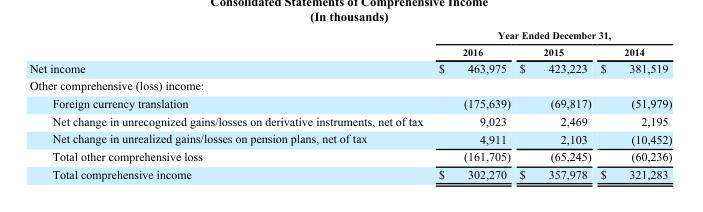table: (28, 29, 671, 180)
table column: (28, 29, 430, 180), (430, 29, 514, 180), (514, 29, 595, 180), (595, 29, 671, 180)
table column header: (28, 29, 671, 58)
table projected row header: (28, 76, 671, 94)
table row: (28, 58, 671, 76), (28, 76, 671, 94), (28, 111, 671, 129), (28, 129, 671, 147), (28, 94, 671, 111), (28, 147, 671, 164), (28, 164, 671, 180), (28, 43, 671, 58), (28, 29, 671, 43)
table spanning cell: (430, 29, 671, 43)
